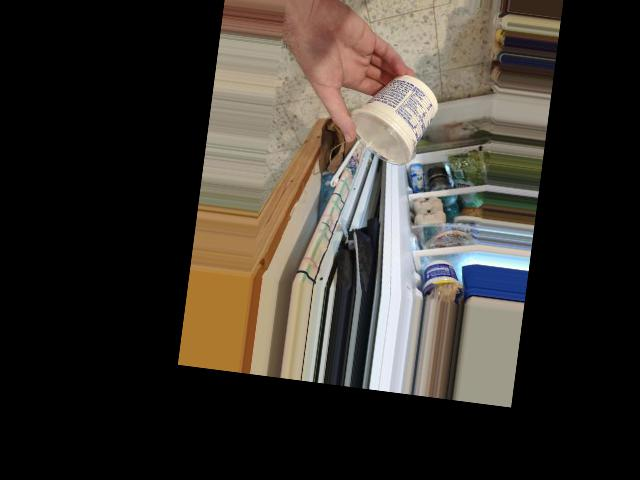cotage: (351, 78, 437, 169)
